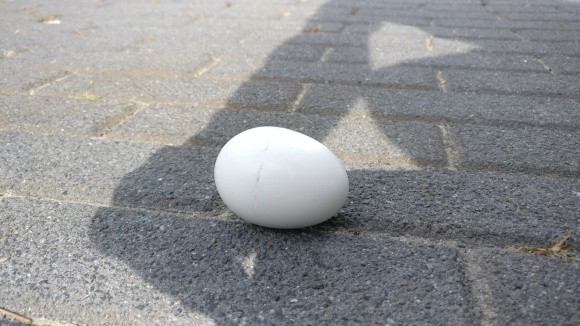egg: (213, 123, 349, 230)
